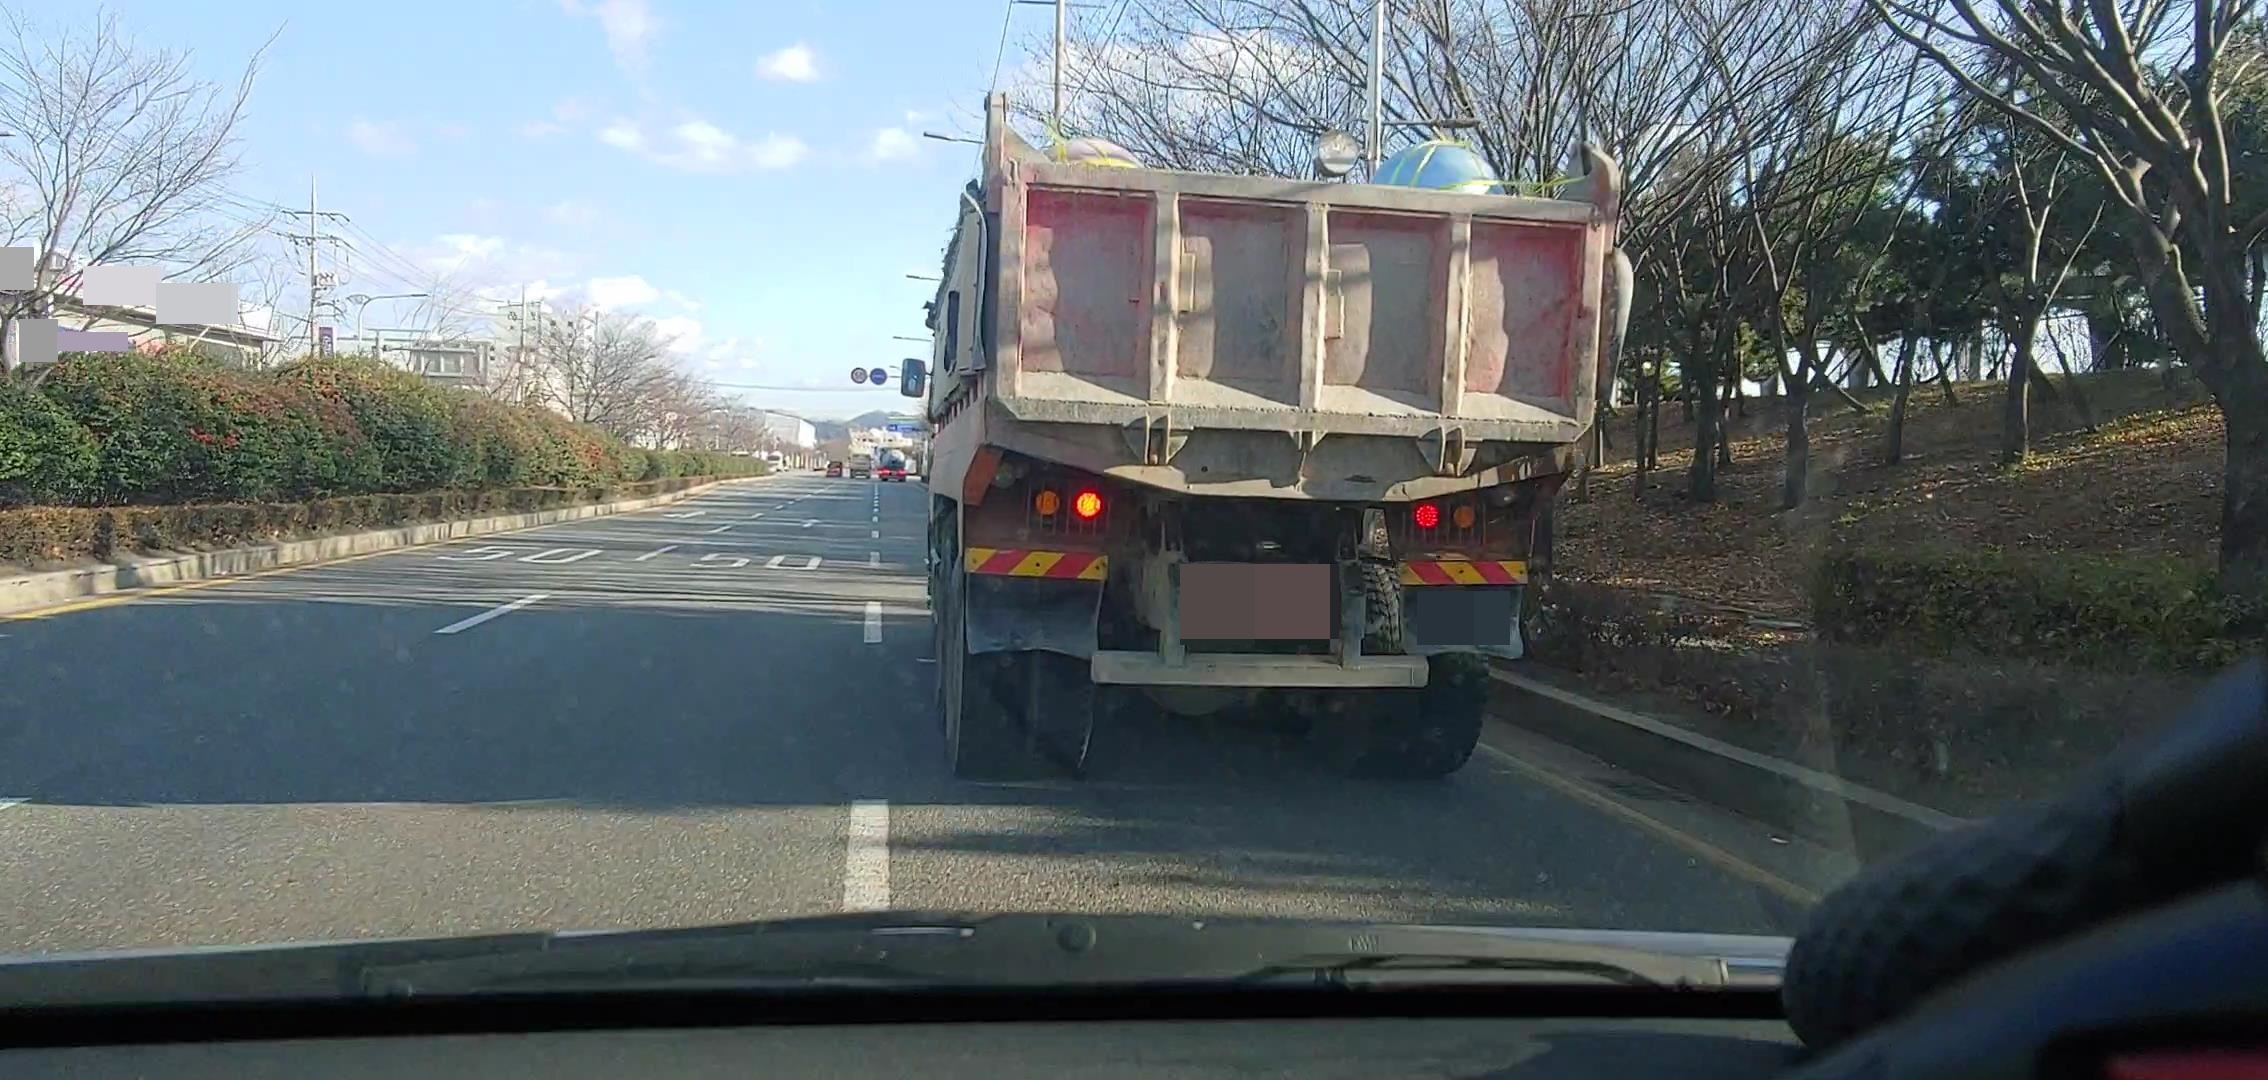불법차량: (921, 91, 1631, 788)
